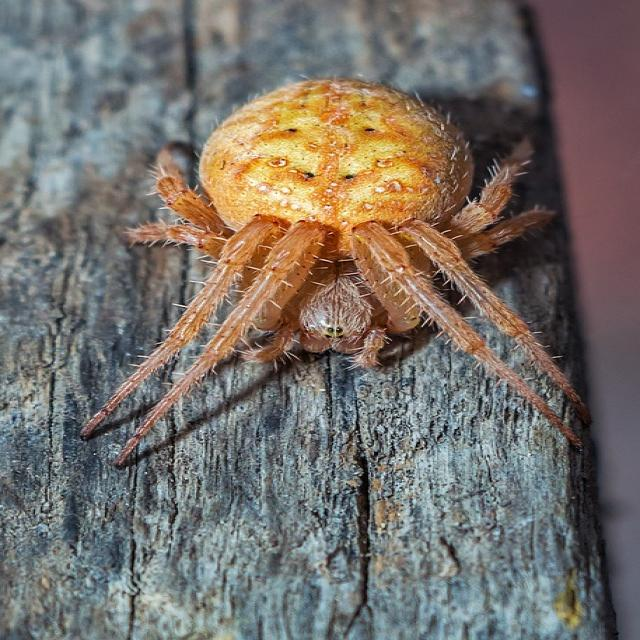spyder: (90, 78, 546, 463)
